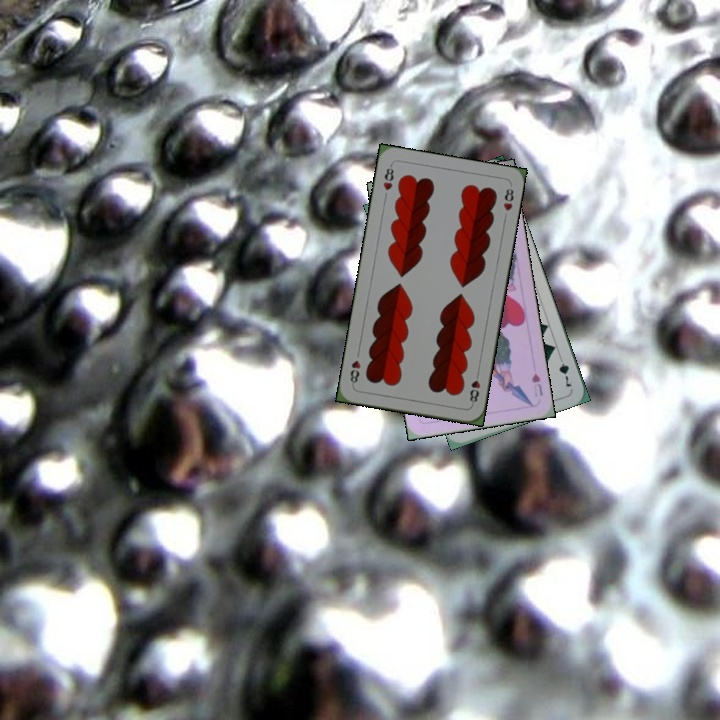G7: (554, 351, 576, 389)
H8: (465, 367, 483, 408), (379, 161, 396, 193)
HU: (528, 370, 545, 399)
